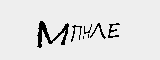Е: (105, 19, 120, 38)
Л: (88, 19, 107, 40)
М: (33, 17, 69, 50)
П: (70, 22, 83, 44)
Ч: (81, 17, 93, 42)
